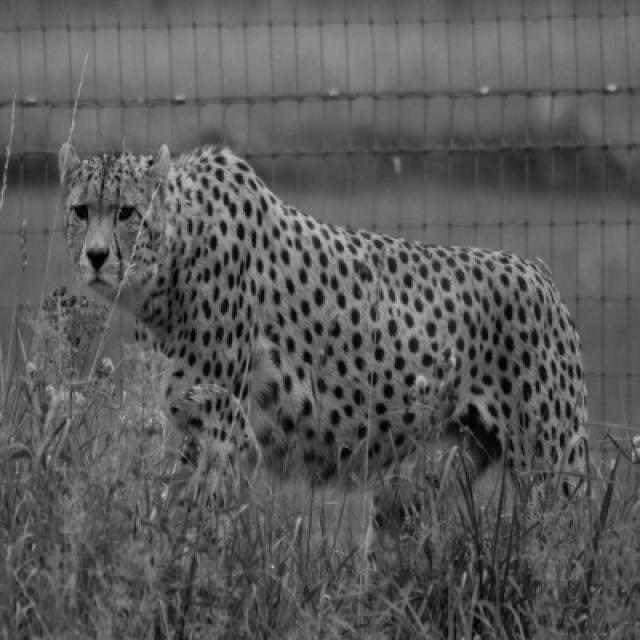Cheetah: (49, 142, 599, 542)
